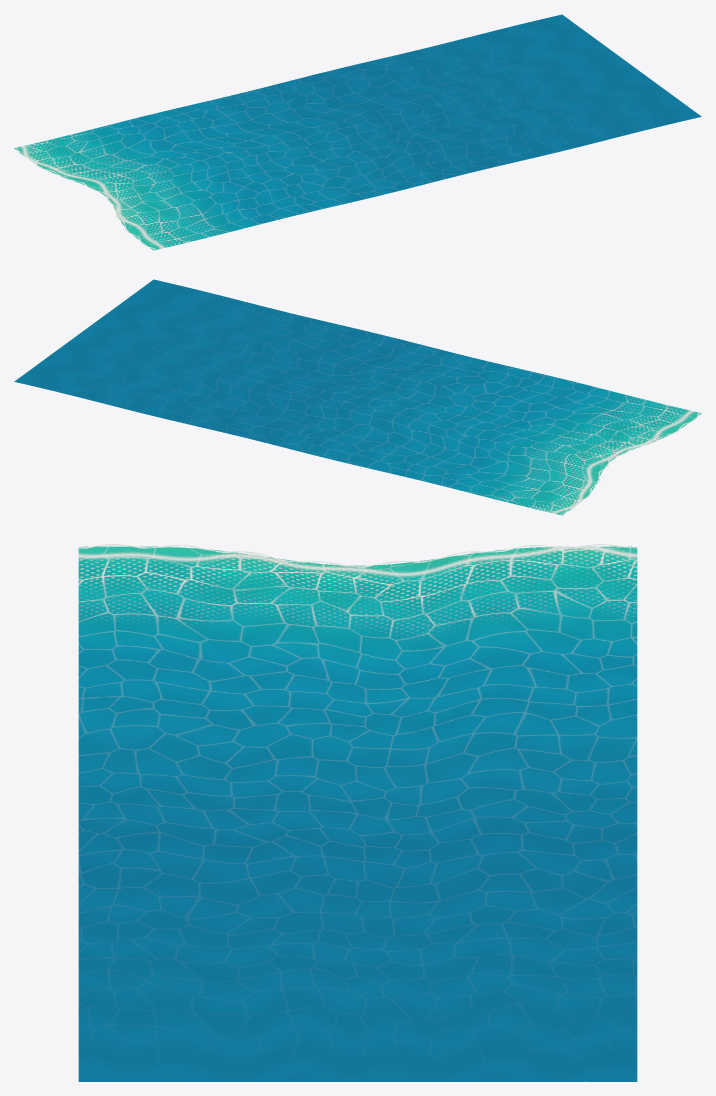
The model's file is water_8m.glb.
3 renders of one model, top to bottom at view 1: azimuth 30°, elevation 25°; view 2: azimuth 150°, elevation 25°; view 3: azimuth 270°, elevation 25°, orthographic. The views are drawn at different scales.
Visible parts, largest first — view 1: water_8m; view 2: water_8m; view 3: water_8m.
Boxes of the visible parts, bbox=[...] form: water_8m: bbox=[14, 14, 701, 250]; water_8m: bbox=[14, 279, 701, 515]; water_8m: bbox=[78, 544, 637, 1081].
Size of the model in its own units: 18.19 by 0.022 by 8.
Materials: 2 (1 with a texture image).
